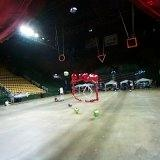Green_Balloon: (93, 110, 100, 117), (74, 107, 80, 114), (64, 71, 69, 76)
Orange_Circle_GShape: (59, 54, 66, 63)
Orange_Square_GShape: (126, 37, 138, 48)
Orange_Triangle_Gshape: (97, 54, 107, 64)
Purple_Balloon: (70, 7, 77, 14)
